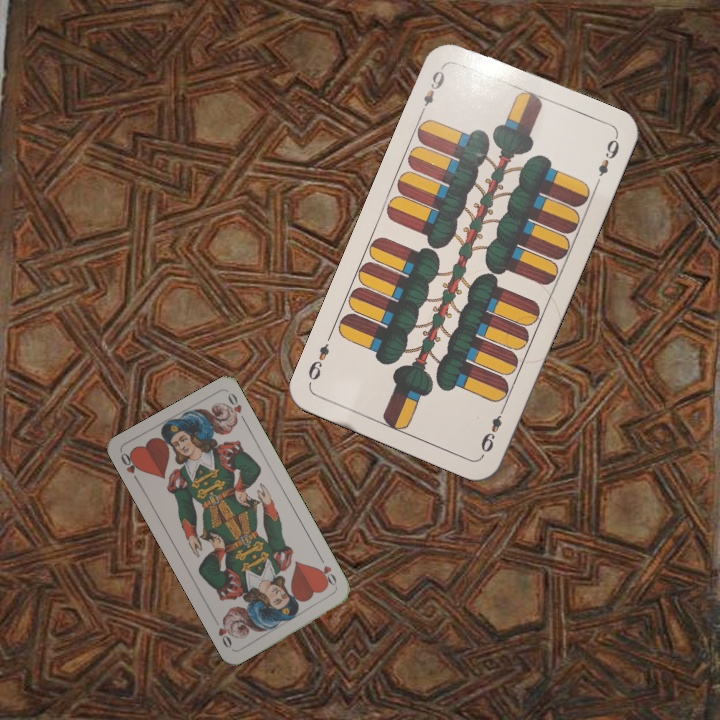E9: (416, 62, 448, 118), (476, 402, 508, 455)
HO: (116, 449, 143, 486), (314, 554, 340, 592)
